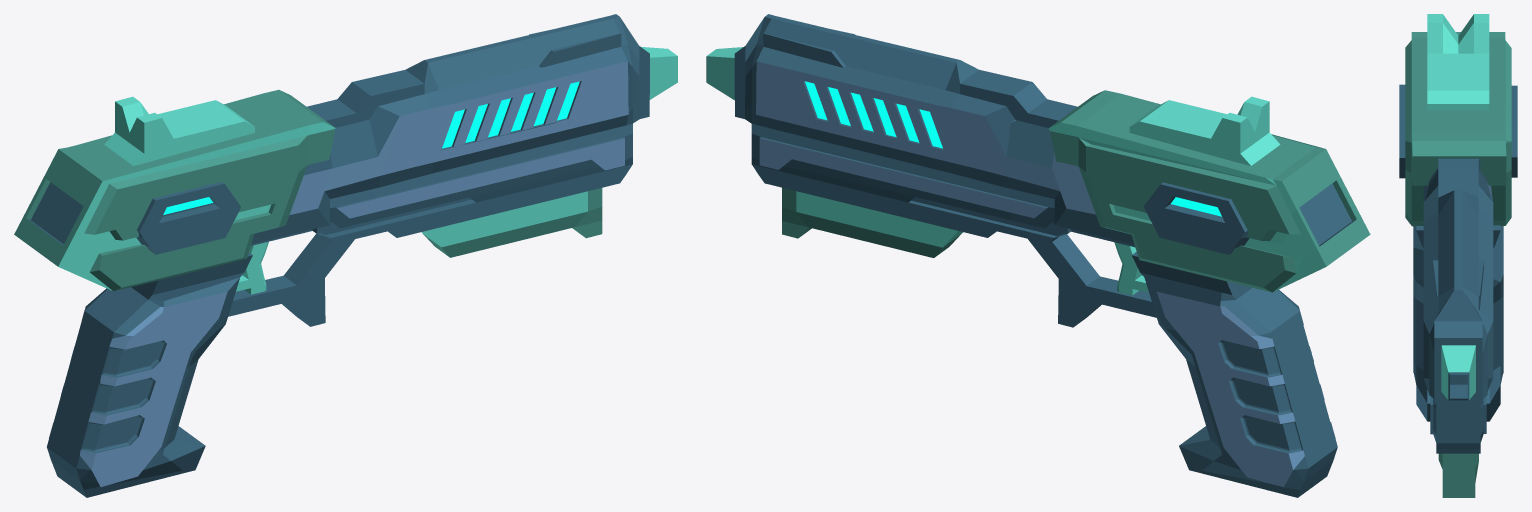
File: Gun.fbx
The picture shows the model from 3 angles, left to right: view 1: azimuth 30°, elevation 25°; view 2: azimuth 150°, elevation 25°; view 3: azimuth 270°, elevation 25°; orthographic projection. The views are drawn at different scales.
Visible parts, largest first — view 1: Cube; view 2: Cube; view 3: Cube.
Part boxes in pixels (<box>): Cube: <box>14,14,677,497</box>; Cube: <box>706,14,1370,497</box>; Cube: <box>1399,14,1517,497</box>.
Bounding box in the file's own units: 376 × 204 × 56.87.
